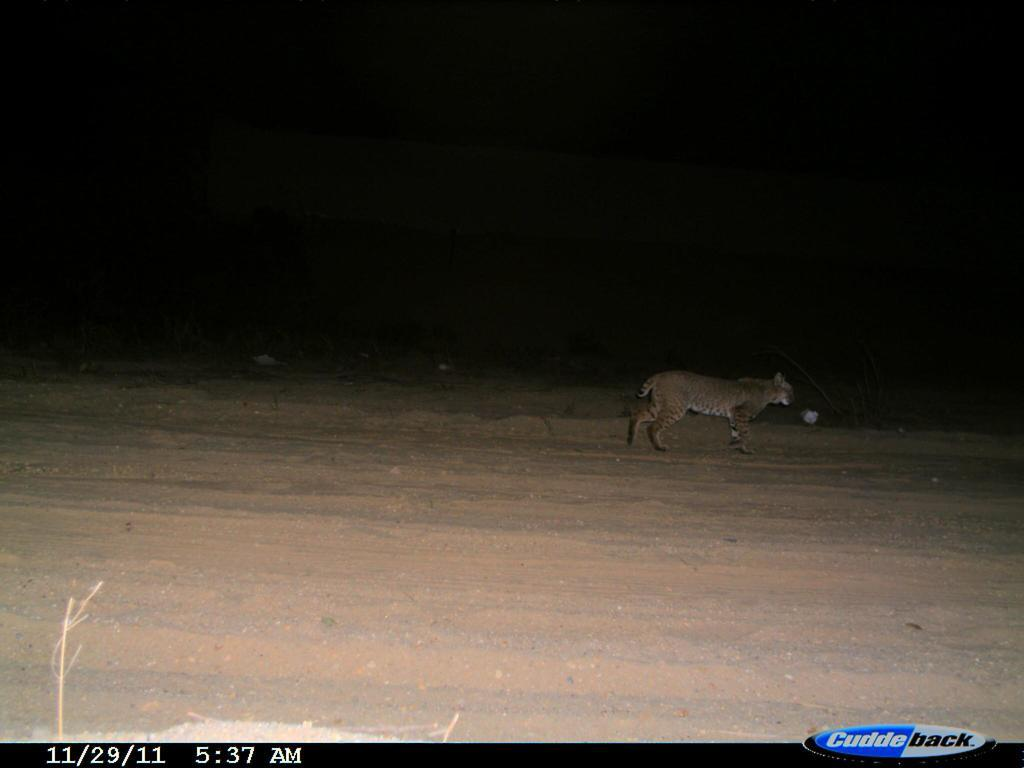bobcat: (610, 355, 816, 468)
